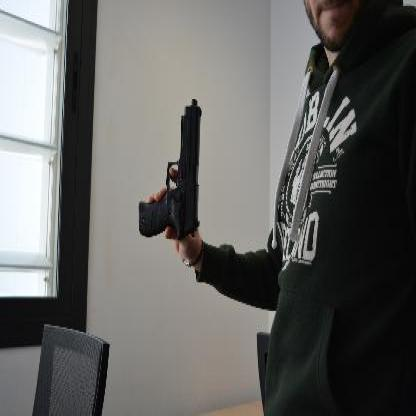pistol: (137, 97, 201, 241)
